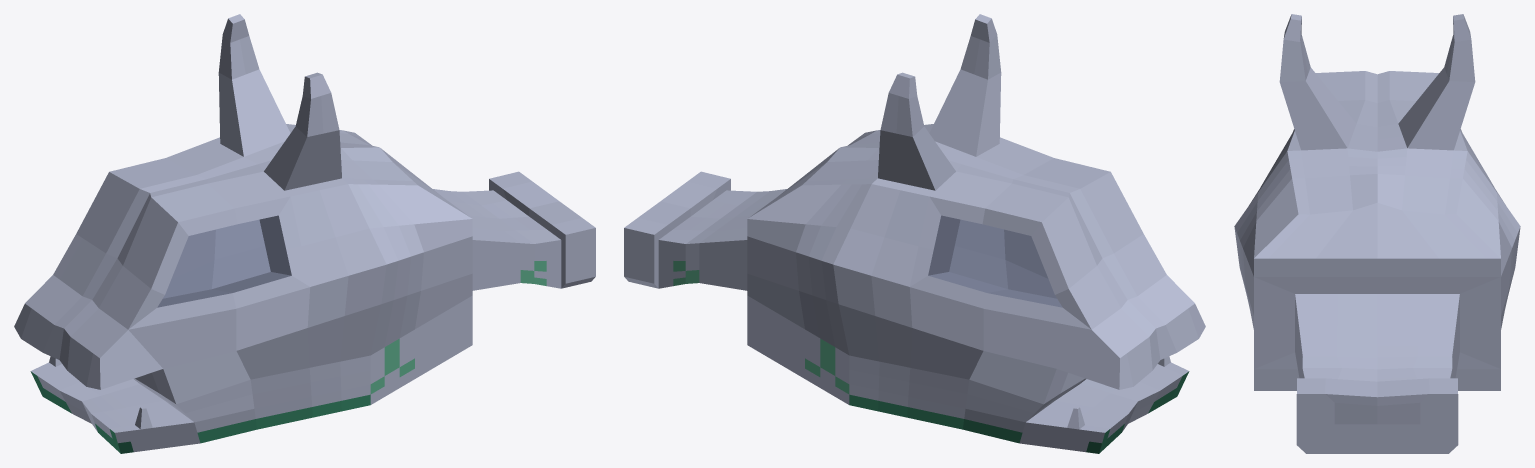
File: ndase.fbx
3 renders of one model, left to right at view 1: azimuth 30°, elevation 25°; view 2: azimuth 150°, elevation 25°; view 3: azimuth 270°, elevation 25°, orthographic. The views are drawn at different scales.
Visible parts, largest first — view 1: ndase; view 2: ndase; view 3: ndase.
Boxes of the visible parts, bbox=[...] form: ndase: bbox=[14, 14, 595, 453]; ndase: bbox=[624, 14, 1205, 453]; ndase: bbox=[1234, 14, 1520, 453].
Bounding box in the file's own units: 496 × 312 × 232.
